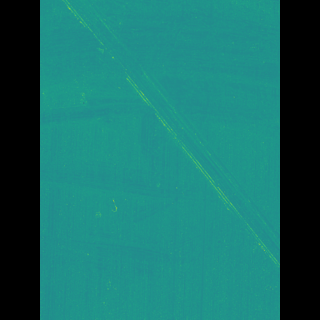Loch: (87, 0, 250, 271), (68, 0, 250, 133), (69, 224, 164, 281), (67, 160, 206, 193)
